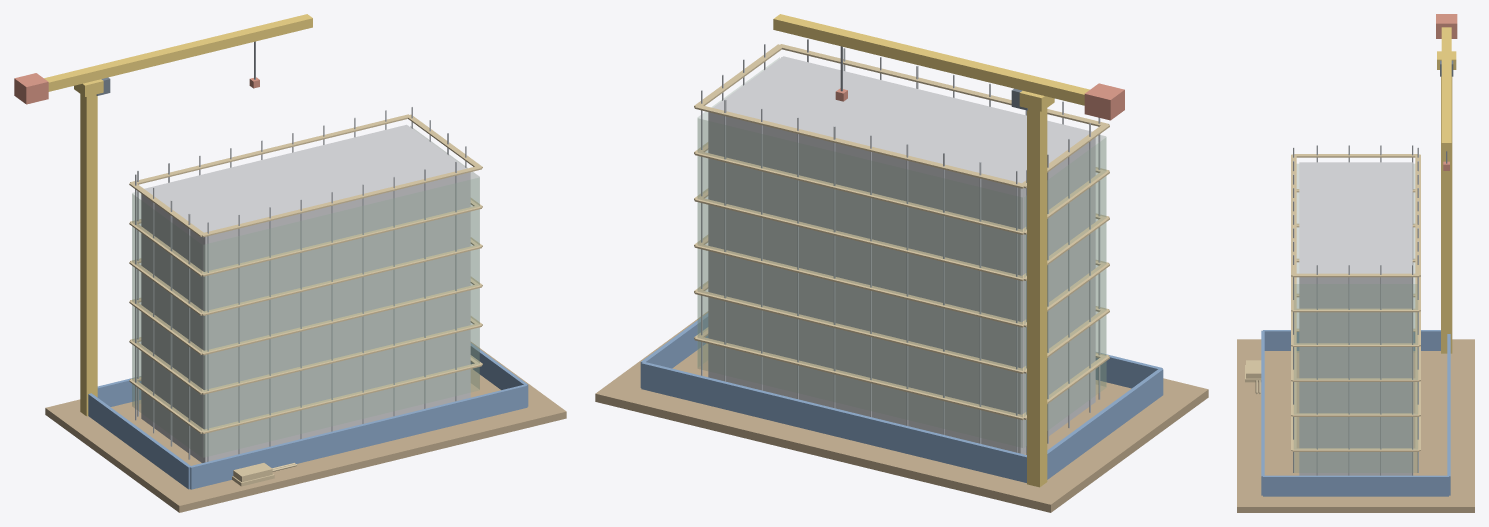
File: num-f-construction.glb
3 renders of one model, left to right at view 1: azimuth 30°, elevation 25°; view 2: azimuth 150°, elevation 25°; view 3: azimuth 270°, elevation 25°, orthographic. The views are drawn at different scales.
Size of the model in its own units: 38.7 by 30.65 by 21.
